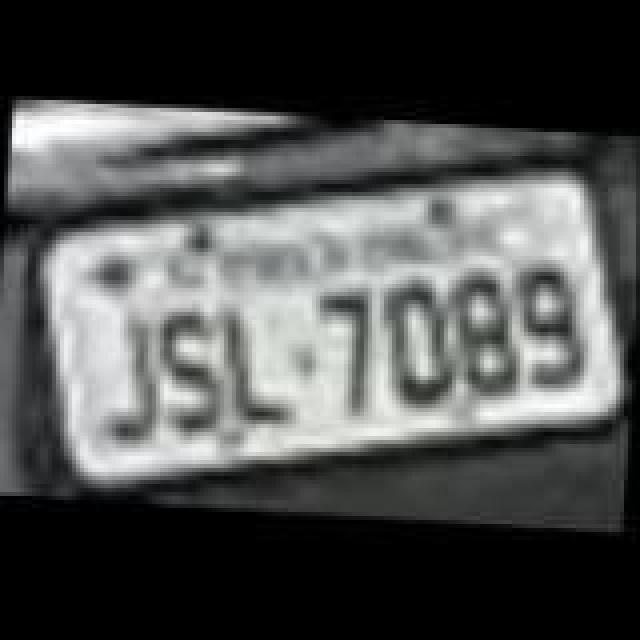7: (302, 288, 382, 412)
8: (442, 274, 530, 394)
9: (512, 256, 604, 392)
J: (94, 312, 174, 456)
L: (214, 300, 310, 432)
O: (382, 280, 462, 412)
S: (158, 298, 238, 434)
